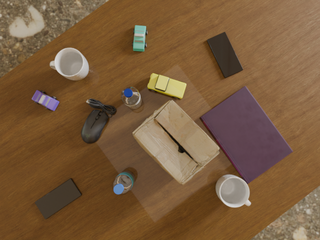book: (200, 86, 293, 184)
bottle: (112, 171, 135, 195), (121, 86, 142, 109)
box: (133, 100, 219, 185)
cup: (50, 48, 89, 80), (216, 175, 251, 207)
mouse: (81, 99, 116, 143)
phone: (35, 179, 82, 219), (207, 32, 243, 78)
toy_car: (148, 73, 186, 99), (32, 90, 59, 111), (132, 26, 147, 51)
